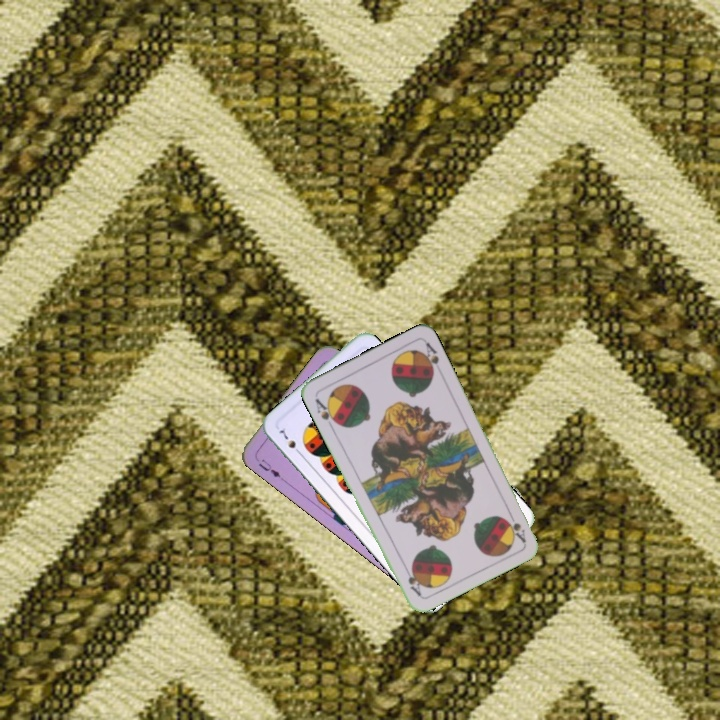EU: (254, 455, 286, 483)
S7: (275, 424, 305, 458)
SA: (311, 395, 341, 431), (503, 507, 529, 545)
